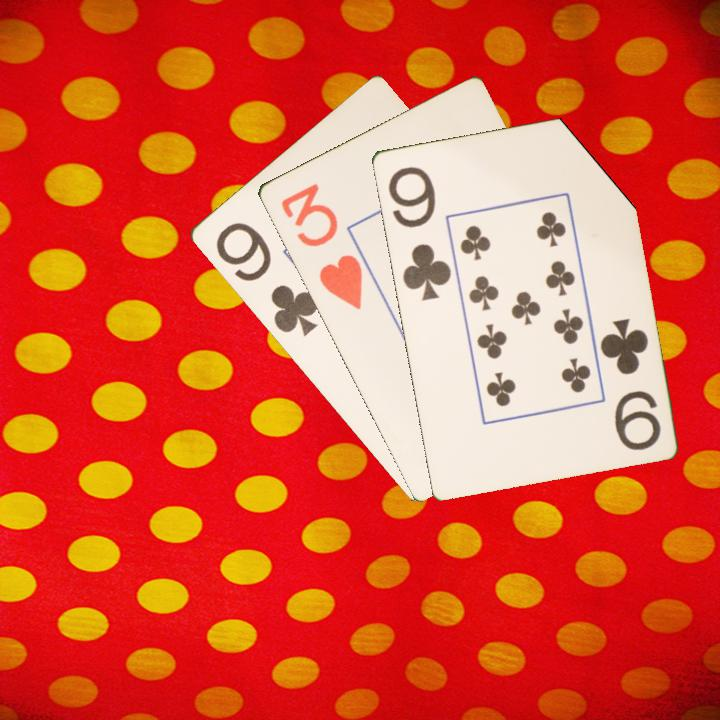3h: (276, 179, 365, 313)
9c: (211, 218, 321, 339), (384, 162, 454, 303), (596, 314, 664, 453)
